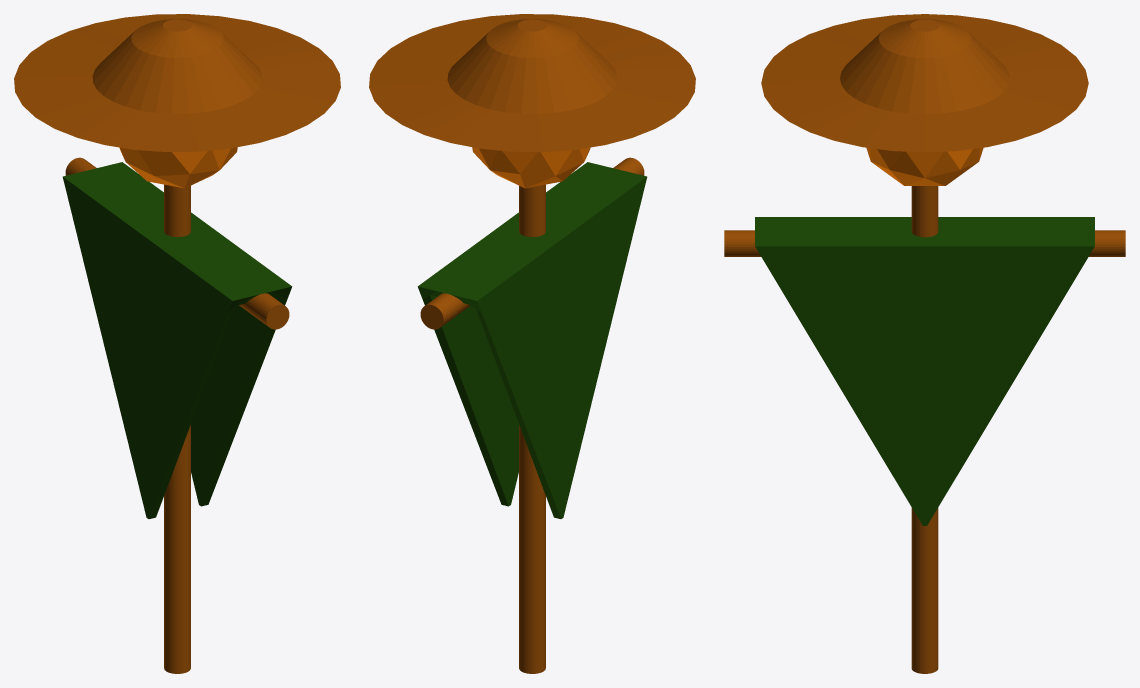
Rendered from Scarecrow.fbx.
3 views of the same model, side by side, from view 1: azimuth 30°, elevation 25°; view 2: azimuth 150°, elevation 25°; view 3: azimuth 270°, elevation 25° (orthographic).
Visible parts, largest first — view 1: Scarecrow; view 2: Scarecrow; view 3: Scarecrow.
Part boxes in pixels (<box>): Scarecrow: <box>14,14,340,673</box>; Scarecrow: <box>369,14,695,673</box>; Scarecrow: <box>724,14,1125,673</box>.
Size of the model in its own units: 489 by 1060 by 600.
